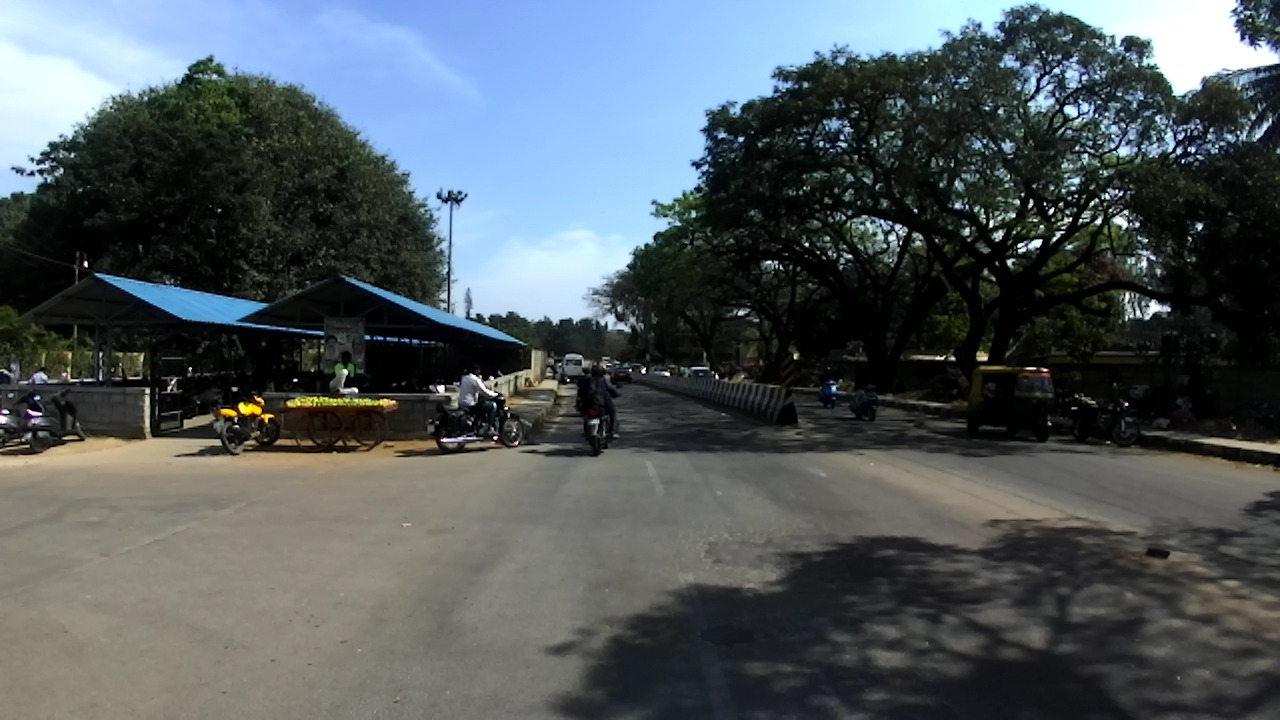autorickshaw: (969, 366, 1054, 443), (667, 364, 680, 376)
bus: (562, 354, 585, 382), (601, 355, 612, 367)
car: (610, 367, 633, 385), (689, 367, 713, 380), (651, 366, 670, 377), (630, 362, 647, 374), (604, 364, 613, 374), (613, 360, 621, 368)
motorcycle: (426, 381, 522, 453), (210, 391, 280, 456), (24, 388, 86, 453), (1071, 397, 1139, 448), (1, 388, 50, 449), (581, 386, 623, 456), (188, 365, 224, 414), (848, 382, 879, 421), (275, 370, 310, 393), (418, 369, 451, 393), (176, 384, 200, 416), (230, 368, 251, 403), (815, 378, 838, 409), (103, 362, 128, 388), (385, 376, 417, 393), (449, 366, 471, 389), (573, 392, 588, 414), (558, 364, 570, 385), (492, 366, 503, 379)
person: (328, 350, 357, 398), (1168, 385, 1194, 427), (28, 363, 49, 385), (547, 352, 556, 380)
rider: (585, 365, 625, 439), (458, 365, 498, 438), (591, 362, 623, 400), (853, 366, 870, 410), (820, 365, 837, 399), (575, 367, 592, 401), (725, 359, 741, 382), (716, 359, 726, 380), (558, 362, 570, 376)
vehicle fallback: (282, 393, 397, 453), (740, 358, 776, 384), (679, 366, 689, 378)
